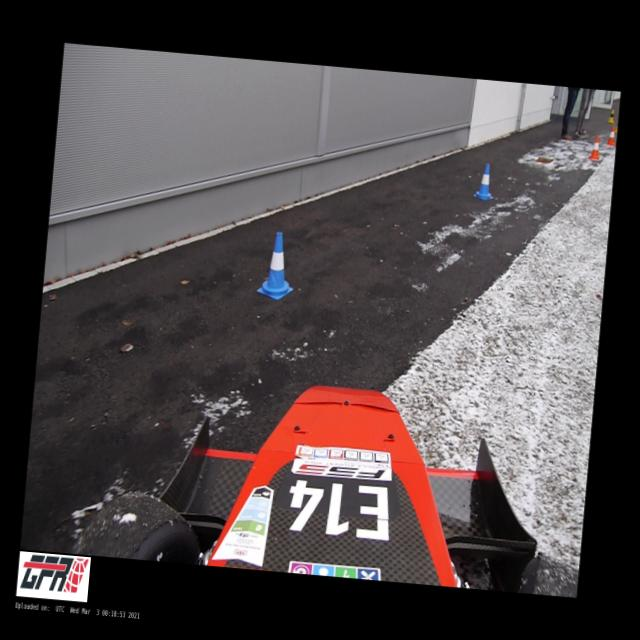blue_cone: (256, 230, 297, 300), (472, 162, 496, 200)
orange_cone: (588, 136, 601, 160), (605, 125, 616, 145)
yellow_cone: (607, 108, 615, 124)
